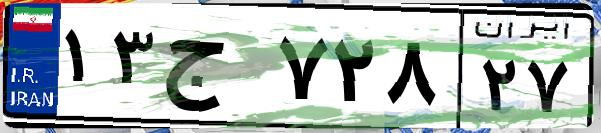1: (57, 26, 110, 100)
2: (330, 28, 385, 110), (475, 38, 525, 113)
3: (110, 28, 158, 98)
7: (270, 28, 330, 110), (525, 38, 570, 115)
8: (385, 28, 445, 110)
ج: (158, 20, 270, 120)
